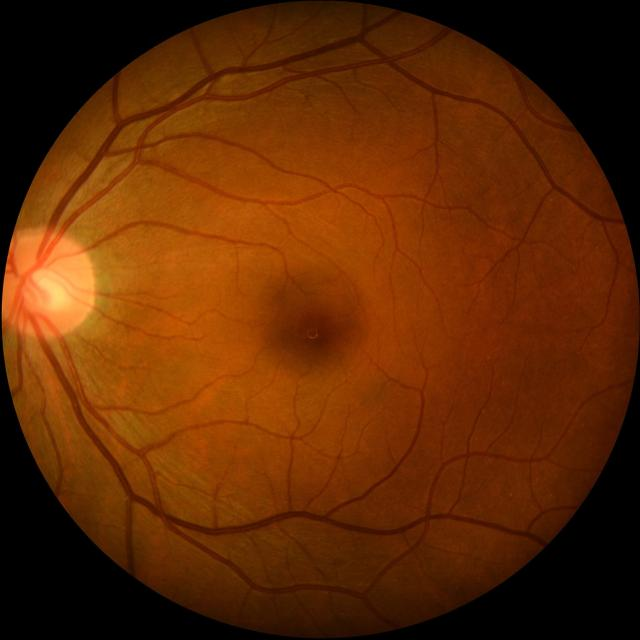OC: (24, 268, 66, 310)
OD: (0, 227, 95, 335)
